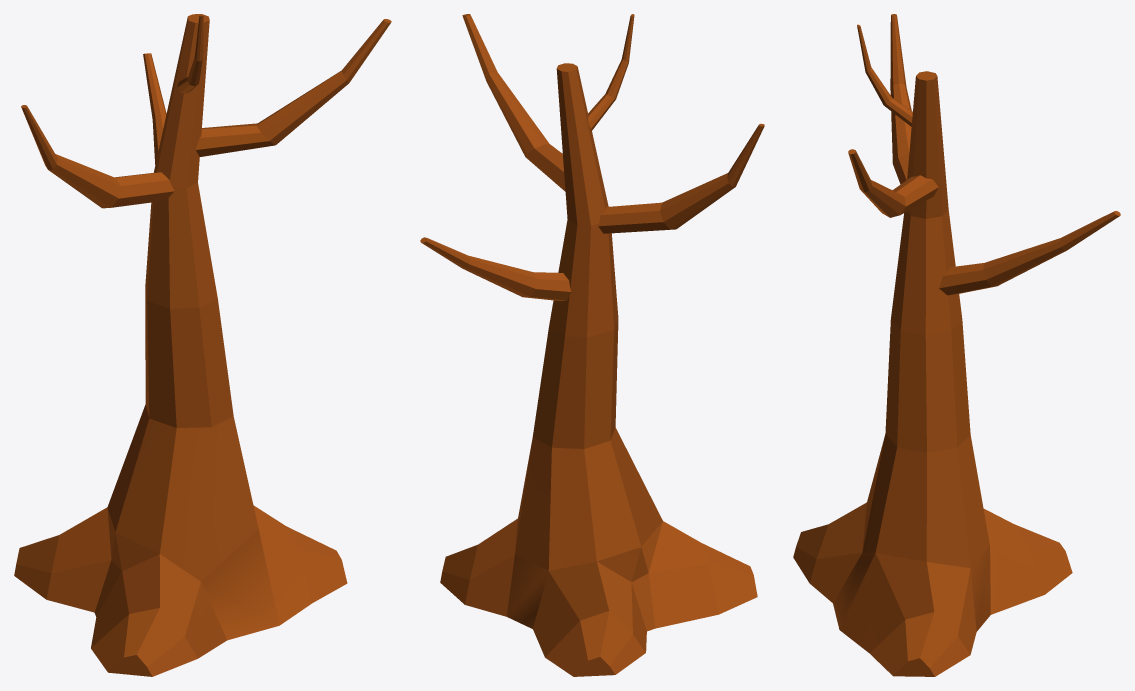
Rendered from TreeTrunk_47.fbx.
3 views of the same model, side by side, from view 1: azimuth 30°, elevation 25°; view 2: azimuth 150°, elevation 25°; view 3: azimuth 270°, elevation 25° (orthographic). The views are drawn at different scales.
Visible parts, largest first — view 1: TreeTrunk_47; view 2: TreeTrunk_47; view 3: TreeTrunk_47.
Boxes of the visible parts, x1=… form: TreeTrunk_47: x1=14, y1=14, x2=391, y2=676; TreeTrunk_47: x1=420, y1=14, x2=764, y2=676; TreeTrunk_47: x1=793, y1=14, x2=1120, y2=676.
Bounding box in the file's own units: 215 × 369 × 190.
